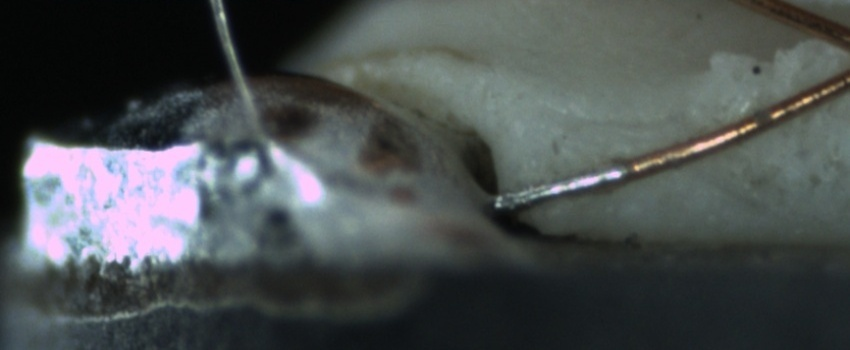DL: (545, 96, 679, 152)
TS: (499, 160, 627, 211)
